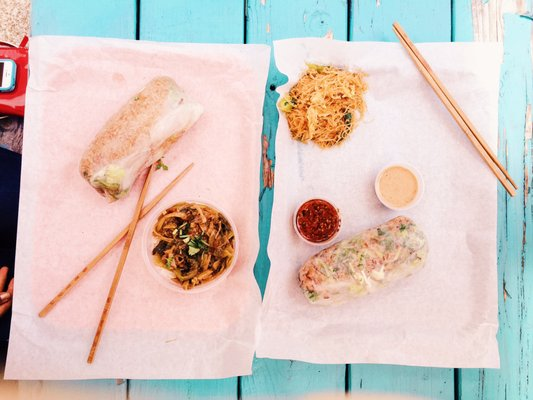curry: (0, 5, 523, 389)
sandwich: (299, 215, 428, 304)
